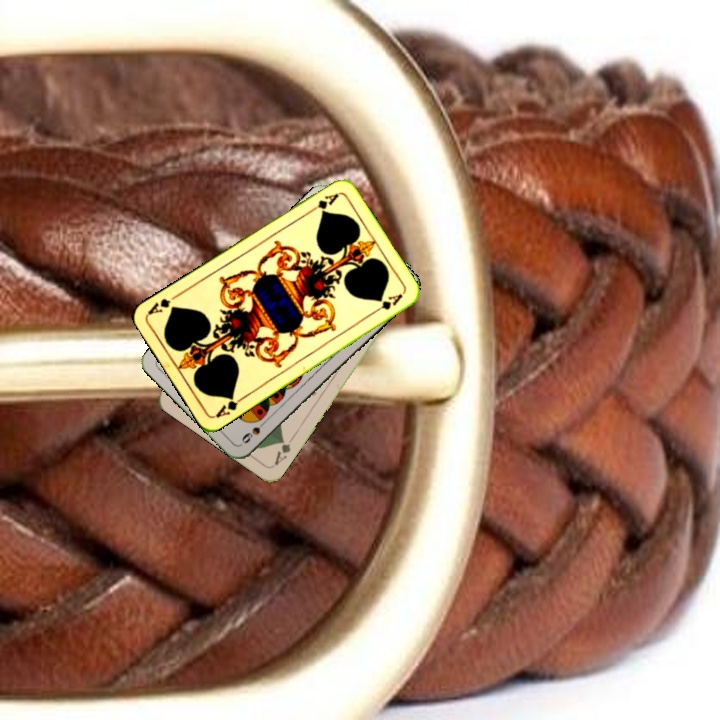GA: (211, 392, 247, 420), (305, 189, 342, 216), (270, 432, 297, 468)
S9: (237, 415, 270, 446)
